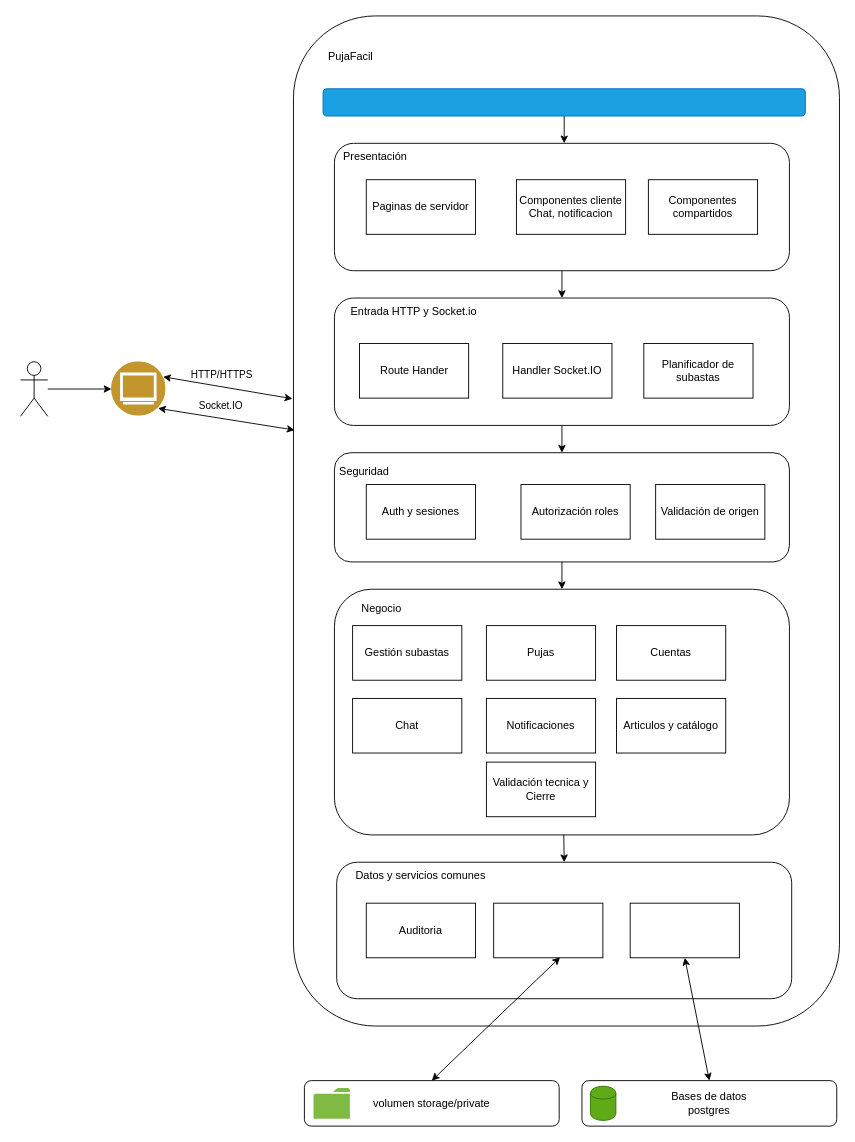
The diagram is 855 pixels wide and 1142 high, and some of its shapes have lost their labels. Here are the shapes that lost their labels. From the top down, the centre of each, then its label:
At pixel 563 102: "server.ts".
At pixel 34 388: "Usuario".
At pixel 548 930: "Archivos privados".
At pixel 684 930: "Prisma ORM".
